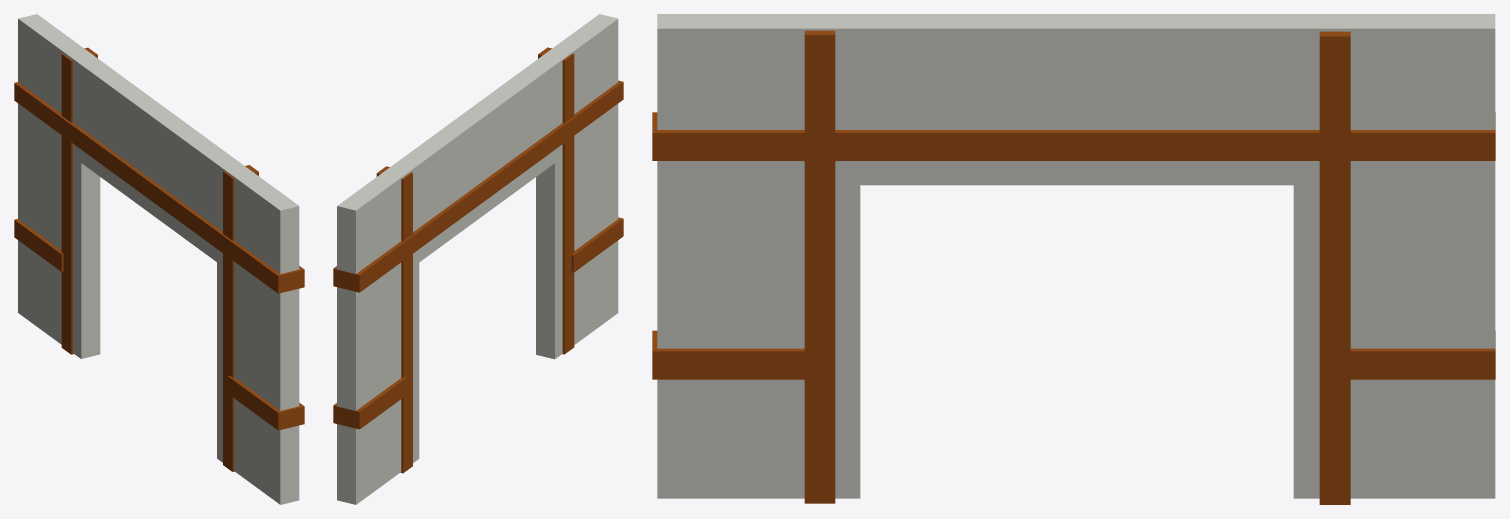
The model's file is DoubleDoorWall1.fbx.
3 views of the same model, side by side, from view 1: azimuth 30°, elevation 25°; view 2: azimuth 150°, elevation 25°; view 3: azimuth 270°, elevation 25° (orthographic). The views are drawn at different scales.
Parts seen in each view (by area): view 1: DoubleDoorWall; view 2: DoubleDoorWall; view 3: DoubleDoorWall.
Part boxes in pixels (x1,y1,x2,y2): DoubleDoorWall: [14, 14, 304, 504]; DoubleDoorWall: [333, 14, 623, 504]; DoubleDoorWall: [652, 14, 1495, 504].
Bounding box in the file's own units: 113 × 1115 × 1806.
